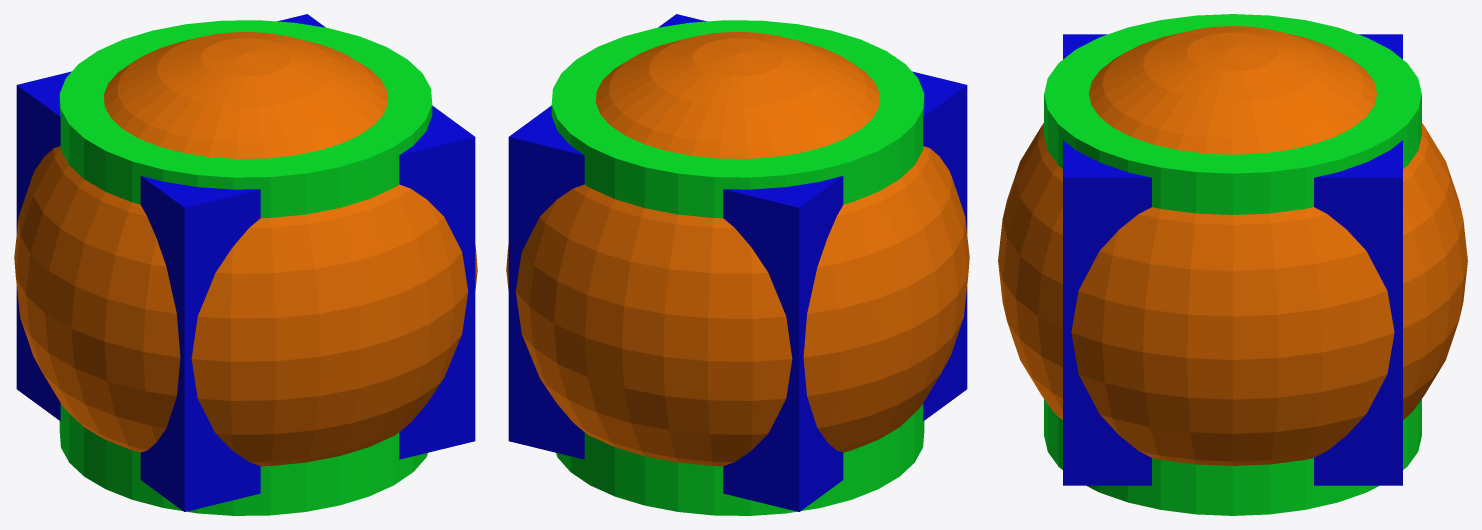
File: shapes.glb
3 renders of one model, left to right at view 1: azimuth 30°, elevation 25°; view 2: azimuth 150°, elevation 25°; view 3: azimuth 270°, elevation 25°, orthographic.
Parts seen in each view (by area): view 1: Sphere, Cylinder, Cube; view 2: Sphere, Cylinder, Cube; view 3: Sphere, Cylinder, Cube.
Boxes of the visible parts, box(x1,y1,x2,y2) form: Sphere: box(14, 32, 477, 466); Cylinder: box(59, 20, 432, 515); Cube: box(16, 14, 475, 511); Sphere: box(506, 32, 969, 466); Cylinder: box(551, 20, 924, 515); Cube: box(508, 14, 967, 511); Sphere: box(998, 26, 1467, 465); Cylinder: box(1044, 14, 1421, 515); Cube: box(1063, 34, 1402, 485).
Size of the model in its own units: 1.21 by 1.21 by 1.21.
